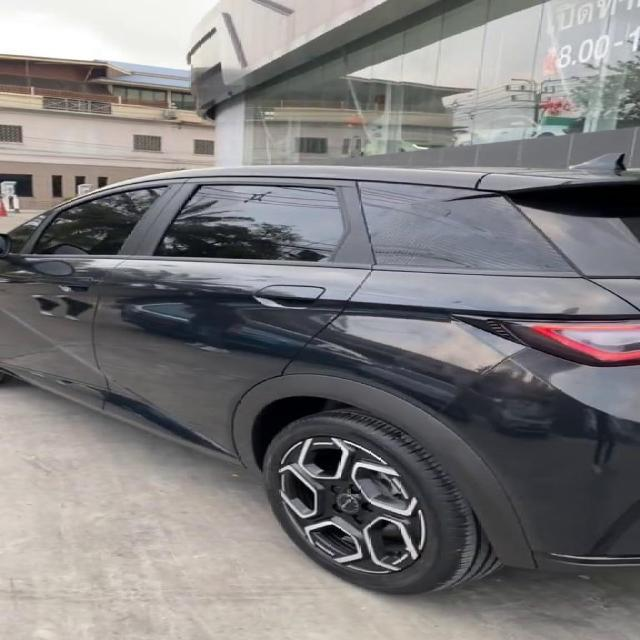Hatchback: (0, 160, 639, 596)
